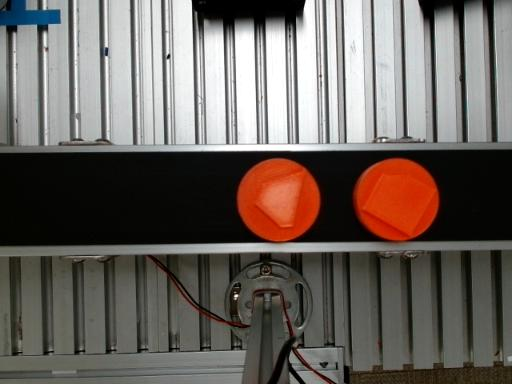Not_Square: (360, 173, 438, 237), (253, 170, 306, 227)
Orange_Waper: (353, 158, 439, 241), (237, 158, 320, 242)
